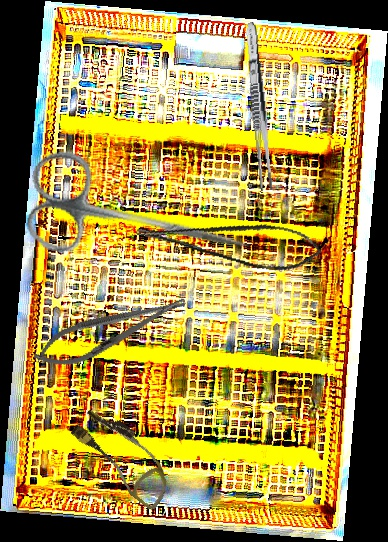Cannula: (62, 401, 185, 512)
Dressing Forceps: (242, 21, 276, 192)
Iris Scissors: (18, 145, 261, 291)
Micro Scissor: (134, 194, 325, 282)
Needle Holder: (28, 283, 193, 379)
